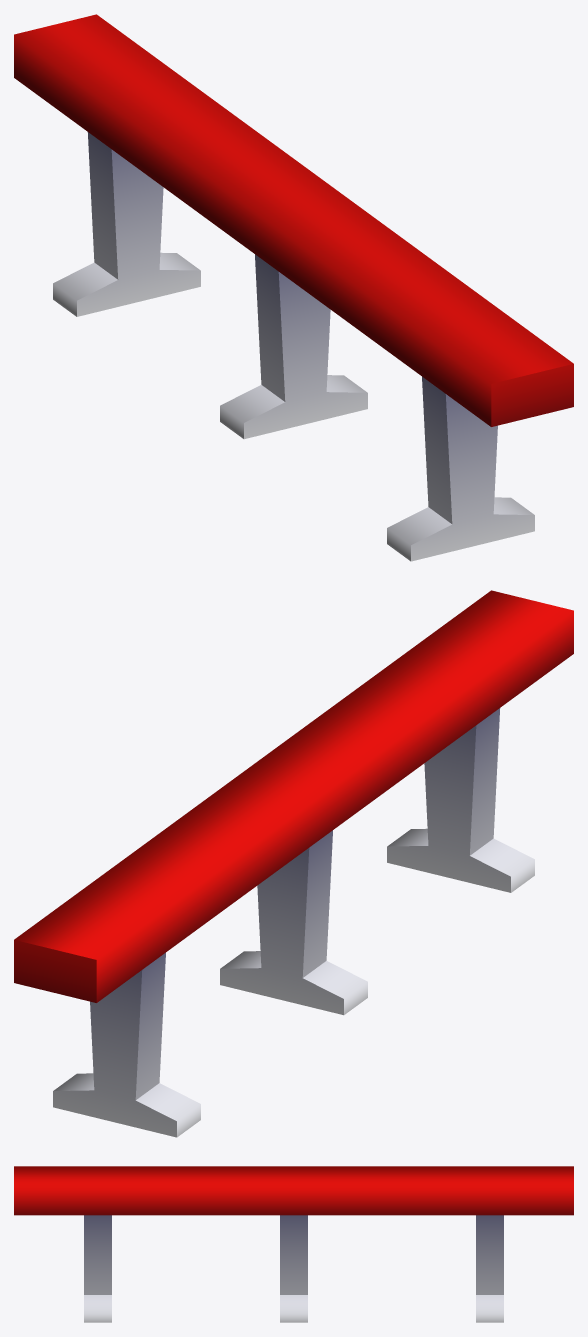
Rendered from rail-low.fbx.
3 views of the same model, one above another, from view 1: azimuth 30°, elevation 25°; view 2: azimuth 150°, elevation 25°; view 3: azimuth 270°, elevation 25° (orthographic). The views are drawn at different scales.
Parts seen in each view (by area): view 1: rail-low; view 2: rail-low; view 3: rail-low.
Part boxes in pixels (x1,y1,x2,y2): rail-low: (14, 14, 573, 561); rail-low: (14, 590, 573, 1137); rail-low: (14, 1166, 573, 1322).
Bounding box in the file's own units: 1.5 × 2.5 × 10.
